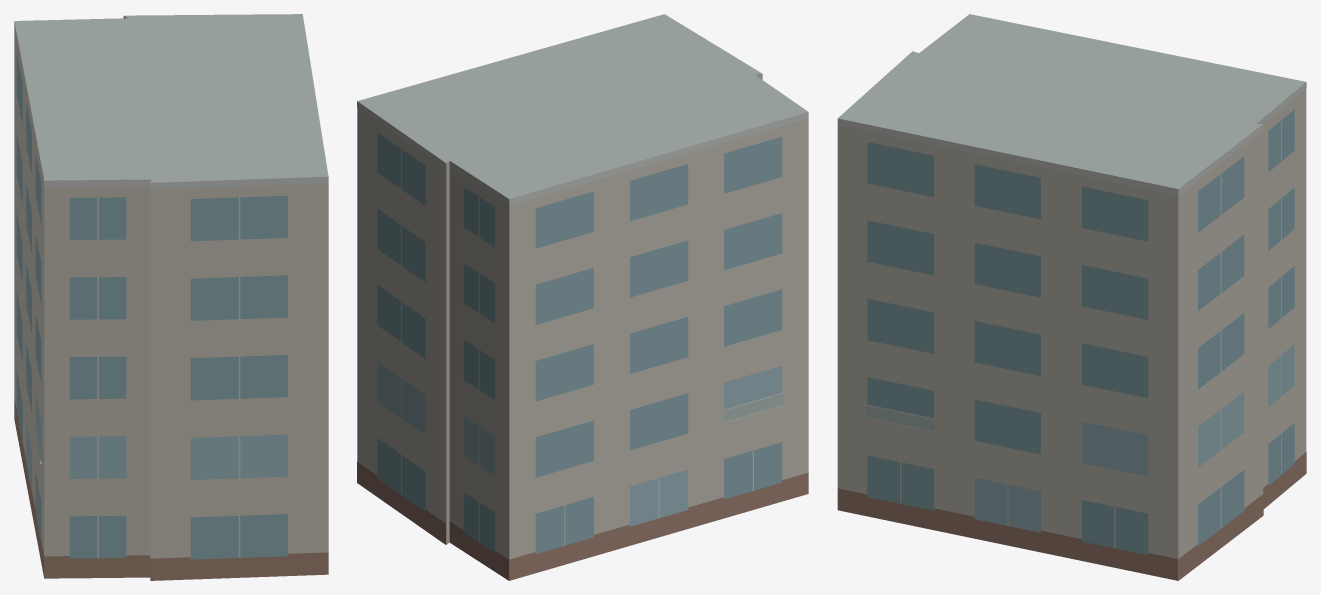
The model's file is survey-upis-32893928.glb.
3 renders of one model, left to right at view 1: azimuth 30°, elevation 25°; view 2: azimuth 150°, elevation 25°; view 3: azimuth 270°, elevation 25°, orthographic. The views are drawn at different scales.
Parts seen in each view (by area): view 1: survey-upis-32893928.tmp; view 2: survey-upis-32893928.tmp; view 3: survey-upis-32893928.tmp.
Part boxes in pixels (<box>): survey-upis-32893928.tmp: <box>14,14,328,580</box>; survey-upis-32893928.tmp: <box>357,14,808,580</box>; survey-upis-32893928.tmp: <box>837,14,1306,580</box>.
Size of the model in its own units: 13.81 by 14.4 by 15.62.
